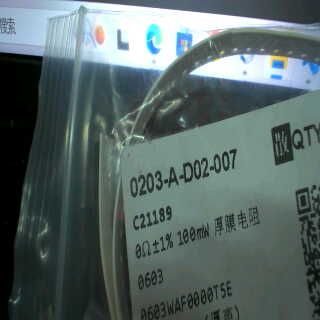0R: (128, 225, 211, 294)
